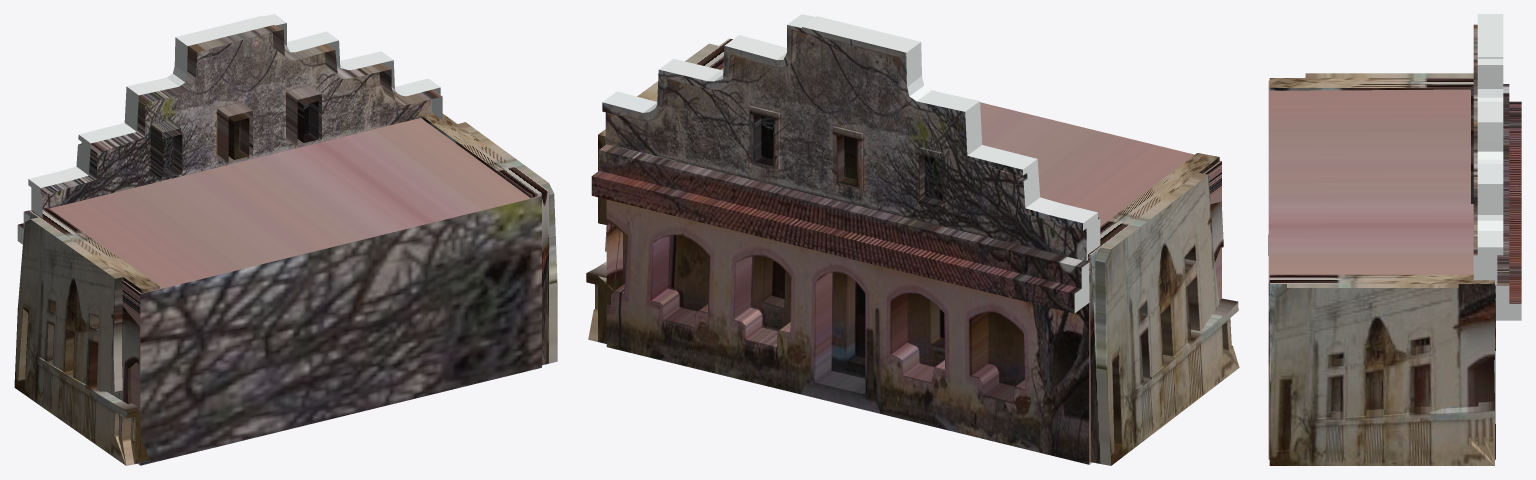
Rendered from casaMajorFeitosa.fbx.
3 renders of one model, left to right at view 1: azimuth 30°, elevation 25°; view 2: azimuth 150°, elevation 25°; view 3: azimuth 270°, elevation 25°, orthographic. The views are drawn at different scales.
Parts seen in each view (by area): view 1: Cube, Cubo, Cubo.001; view 2: Cube, Cubo, Cubo.001; view 3: Cube, Cubo.001, Cubo.
Boxes of the visible parts, x1=… form: Cube: x1=17, y1=14, x2=541, y2=465; Cubo: x1=14, y1=208, x2=159, y2=465; Cubo.001: x1=421, y1=113, x2=557, y2=365; Cube: x1=591, y1=14, x2=1221, y2=464; Cubo: x1=1069, y1=153, x2=1239, y2=465; Cubo.001: x1=586, y1=38, x2=750, y2=343; Cube: x1=1268, y1=14, x2=1521, y2=459; Cubo.001: x1=1269, y1=274, x2=1494, y2=465; Cubo: x1=1268, y1=73, x2=1473, y2=255.
Bounding box in the file's own units: 670 × 459 × 327.
